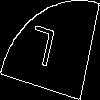L: (25, 24, 57, 77)
